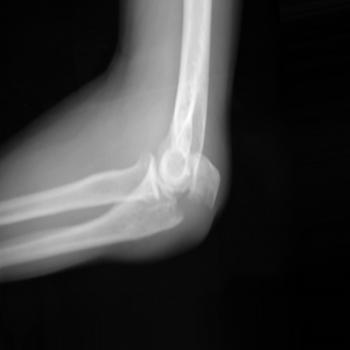Fracture: (171, 168, 213, 224)
